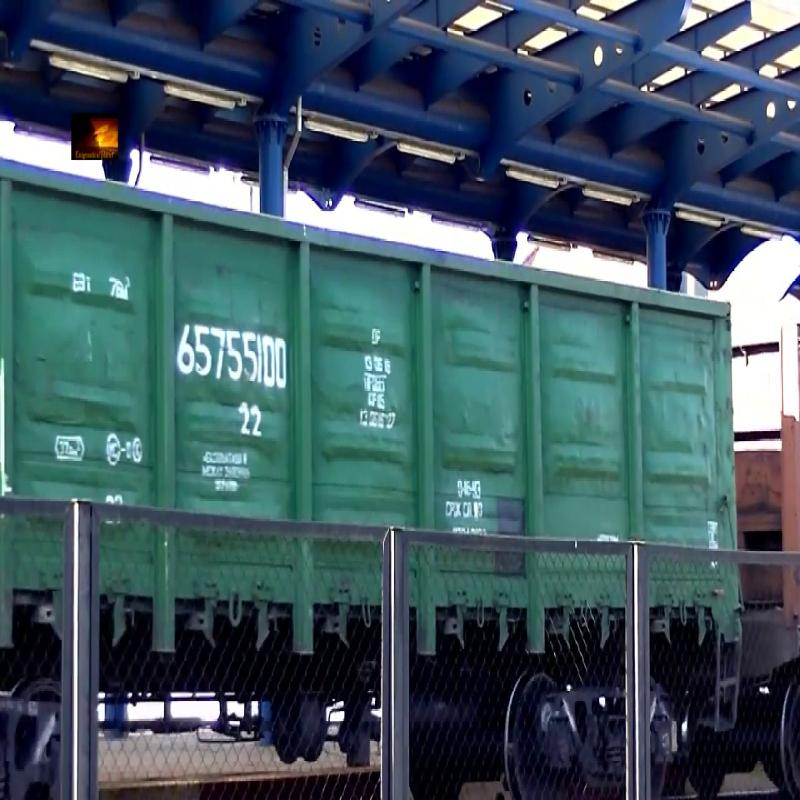train: (1, 47, 782, 771), (750, 46, 800, 766)
